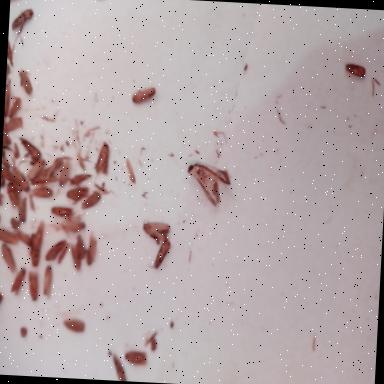pbw: (11, 9, 33, 42), (142, 220, 170, 244), (0, 166, 22, 192), (152, 240, 170, 270), (40, 156, 62, 180), (94, 144, 110, 176), (11, 166, 30, 192), (44, 239, 65, 262), (18, 138, 42, 158), (0, 244, 15, 273), (30, 220, 44, 251), (132, 86, 156, 104), (18, 69, 34, 94), (10, 268, 24, 294), (61, 217, 84, 232), (82, 191, 100, 210), (27, 160, 44, 180), (28, 273, 40, 301), (3, 117, 22, 134), (42, 266, 52, 298), (74, 234, 86, 260), (344, 64, 366, 78), (66, 186, 88, 200), (124, 352, 146, 366), (62, 319, 84, 333), (6, 184, 18, 208), (30, 186, 54, 198), (0, 229, 18, 245), (31, 174, 57, 185), (86, 238, 96, 266), (70, 173, 90, 186), (8, 98, 20, 119), (18, 230, 32, 248), (70, 246, 80, 270), (58, 166, 68, 189), (18, 196, 26, 224), (50, 206, 72, 216)
